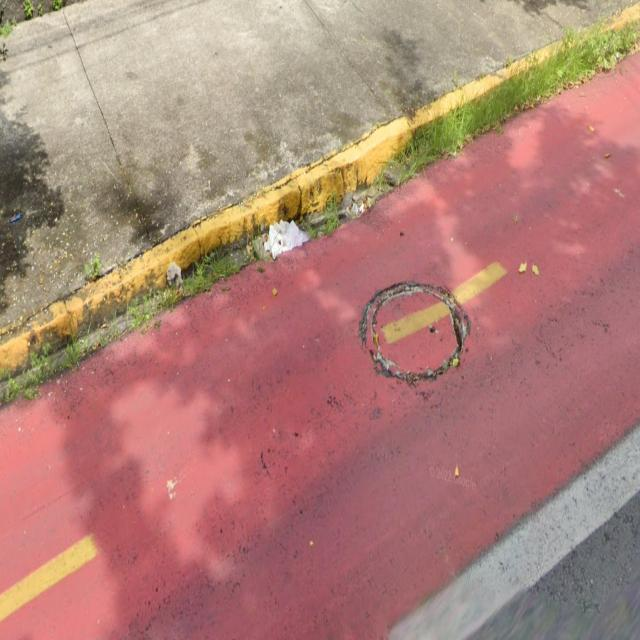Bueiro: (360, 270, 474, 394)
